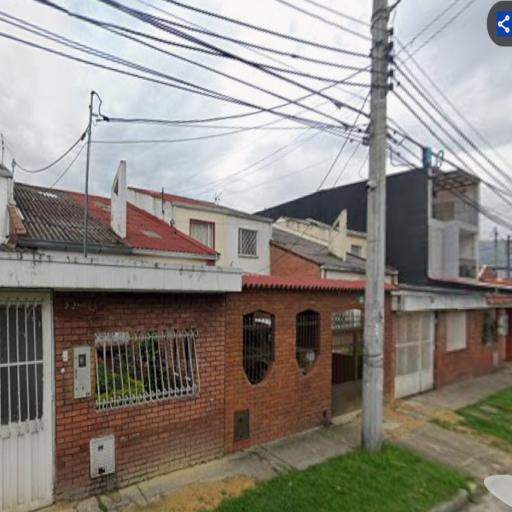poste: (354, 2, 406, 462)
